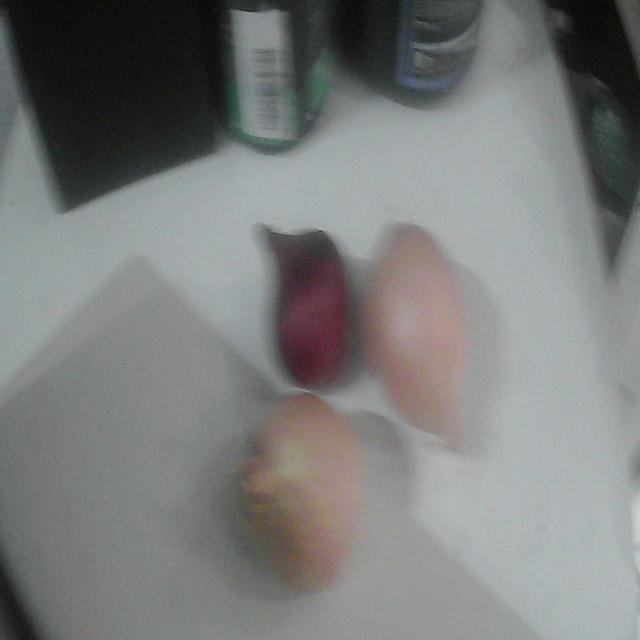Onion: (362, 223, 474, 449), (242, 395, 366, 590), (262, 227, 353, 388)
